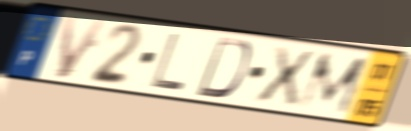2: (88, 22, 145, 88)
D: (192, 35, 254, 101)
L: (148, 31, 188, 94)
M: (295, 52, 371, 117)
V: (55, 13, 111, 82)
X: (252, 44, 318, 108)
